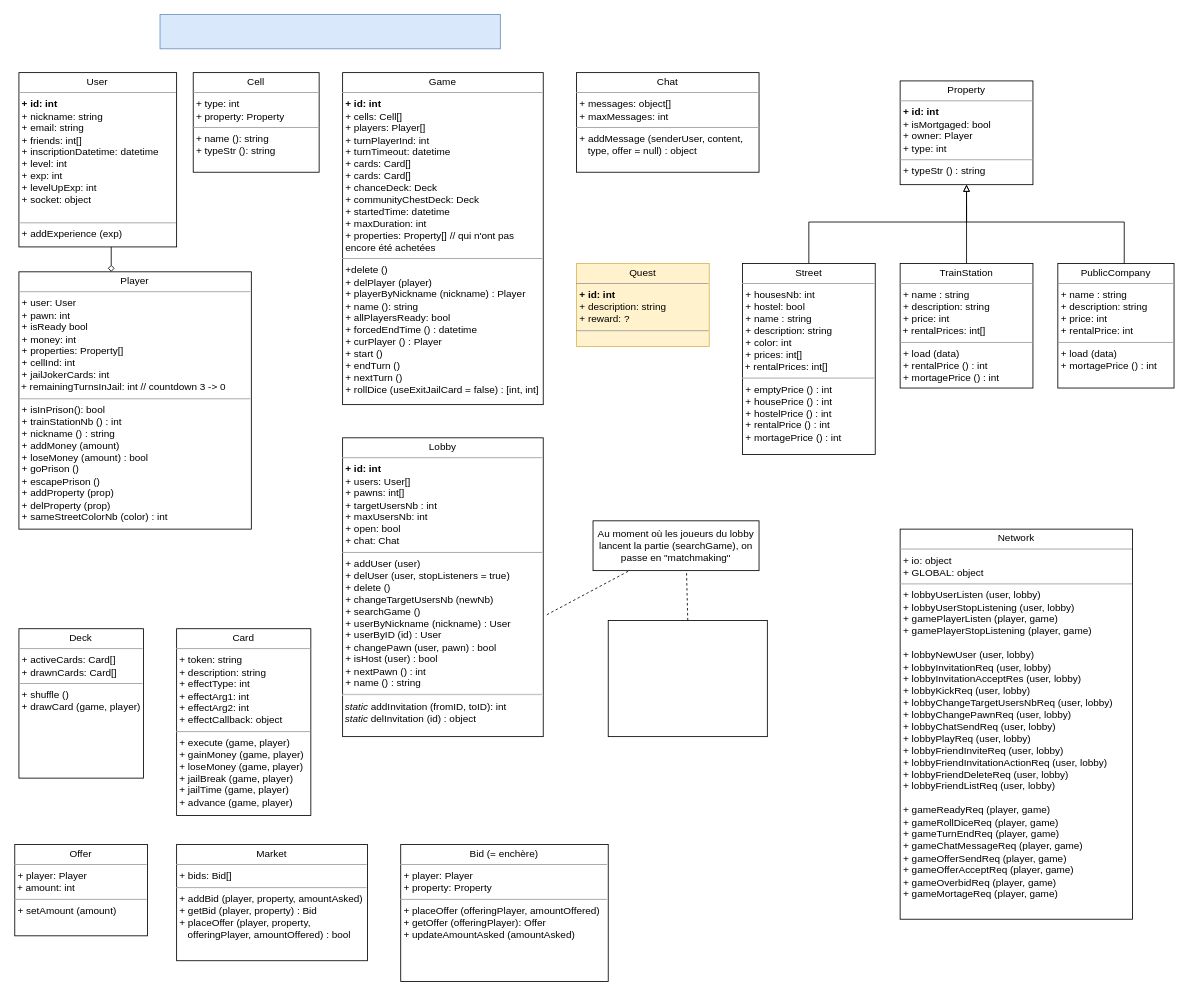
Image size: 1189x996. Some labels were removed from this diagram. Here are the shapes that lost their labels. From the top down, the centre of each, then its label:
(x=329, y=31): Monopoly EG - Modélisation UML des classes
(x=687, y=678): Matchmaking + id: int + nbPlayers: int // 2 -> 8 + playersWaiting: Player[][]
